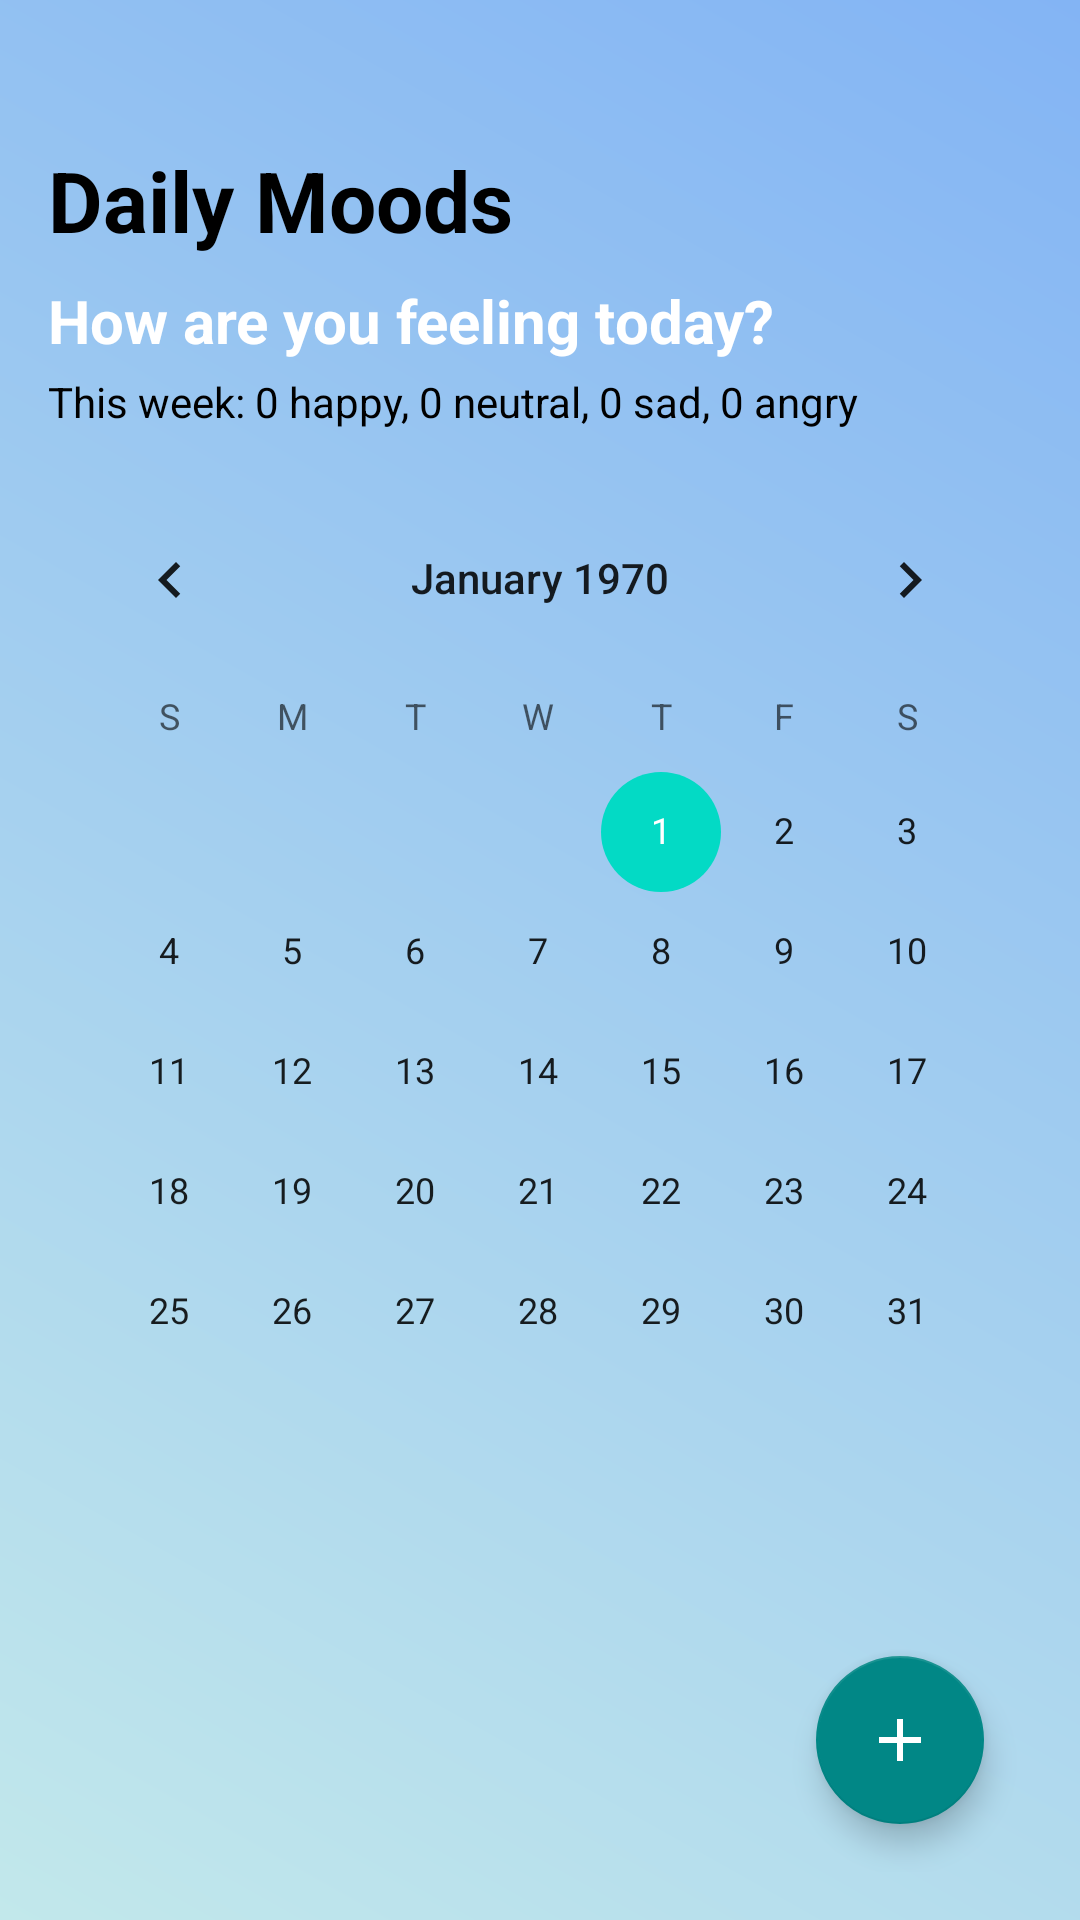

Where to tap for icons on this 1080px×1920px app screen, as (x,y):
Add Mood: (900,1740)
